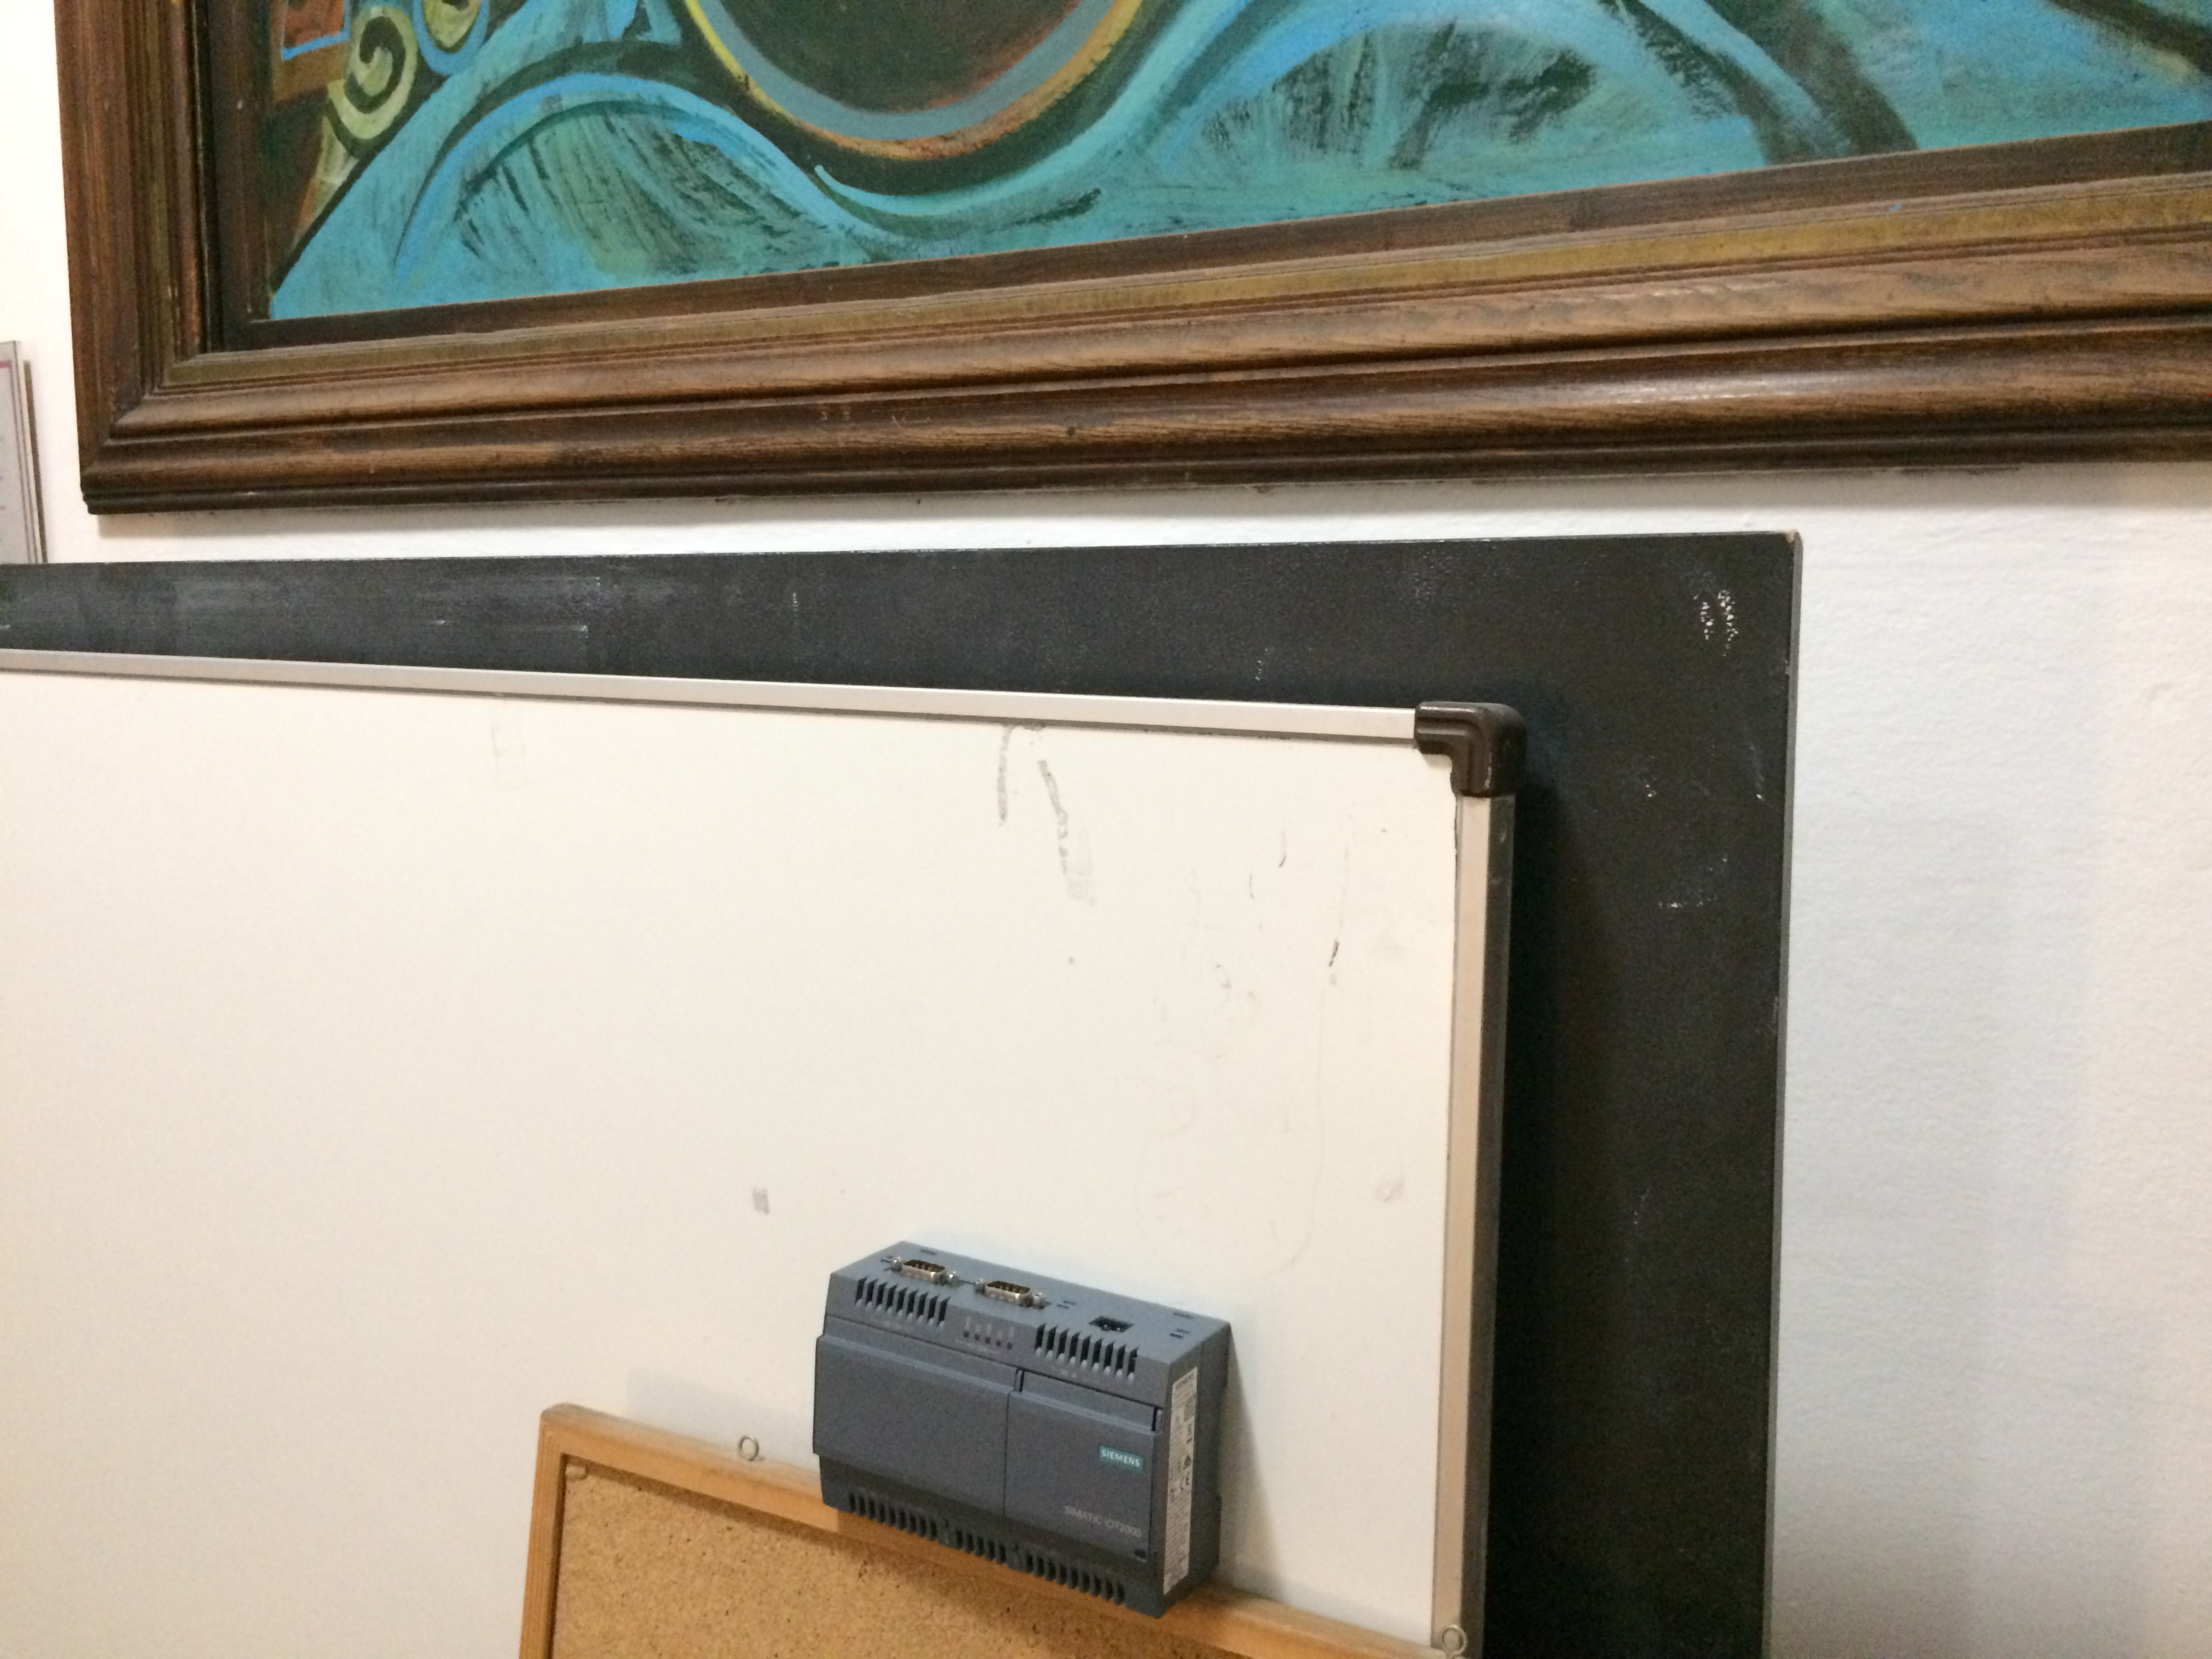iot2000: (806, 1237, 1237, 1626)
